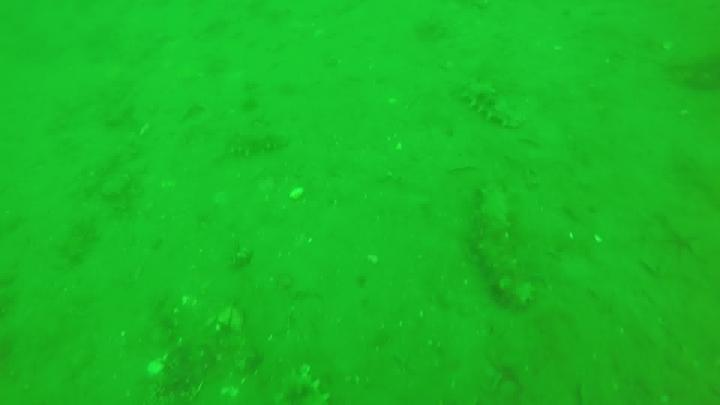holothurian: (474, 185, 538, 312), (463, 81, 527, 131), (267, 369, 331, 405), (217, 127, 292, 155), (148, 355, 169, 378), (289, 189, 307, 200)
